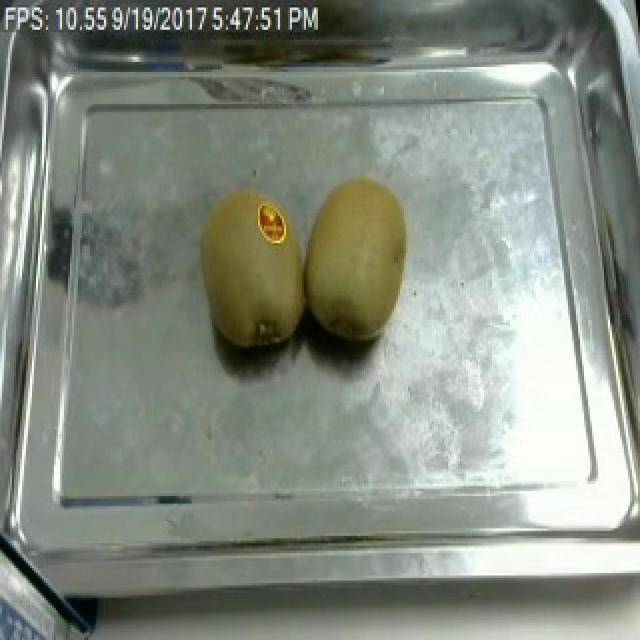Fruit: (300, 169, 424, 352), (190, 179, 306, 357)
